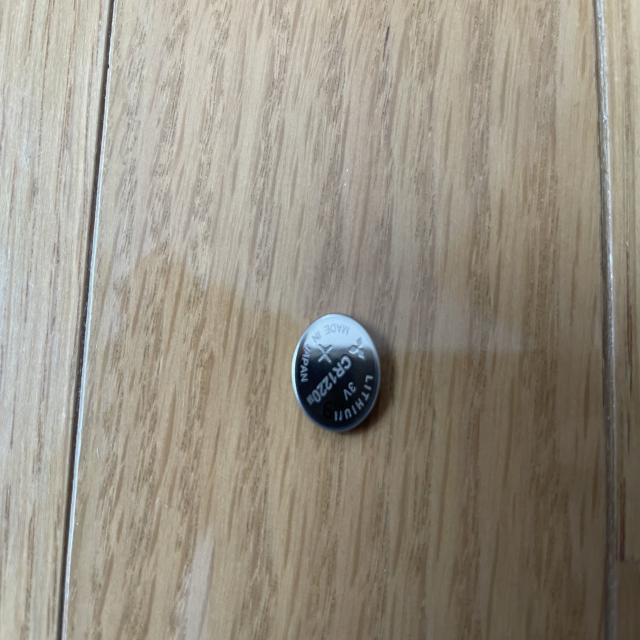COIN: (289, 312, 386, 436)
